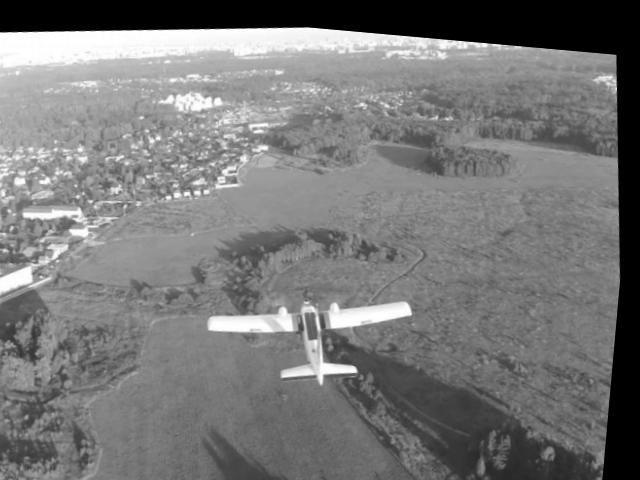hedef: (201, 254, 438, 403)
